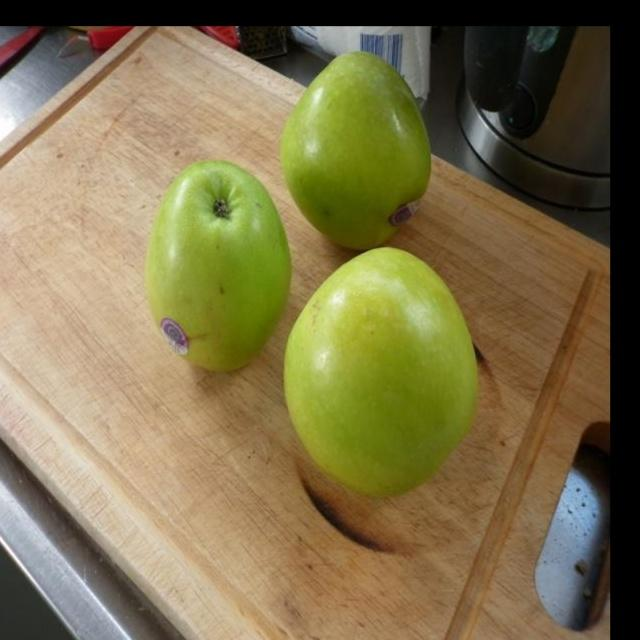green apple: (278, 248, 485, 509), (284, 48, 439, 257), (142, 157, 293, 367)
